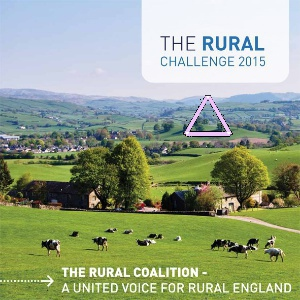triangle: (183, 93, 235, 138)
